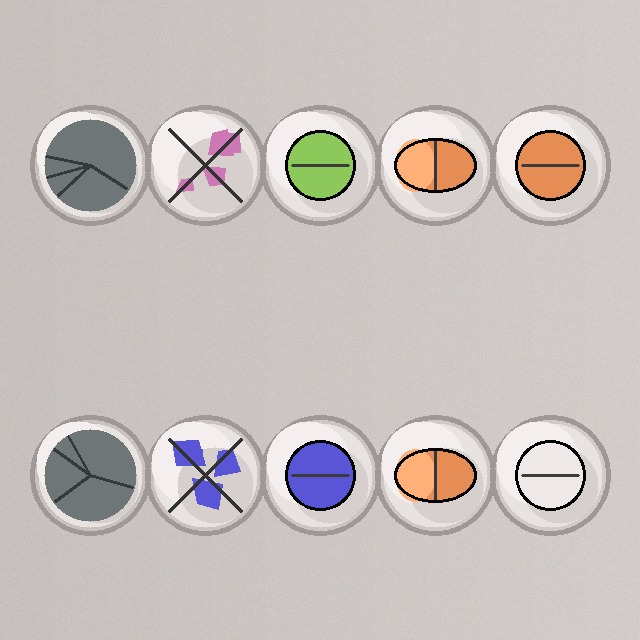broken: (143, 103, 267, 227), (143, 413, 267, 537)
empty: (28, 103, 152, 227), (28, 413, 152, 537)
